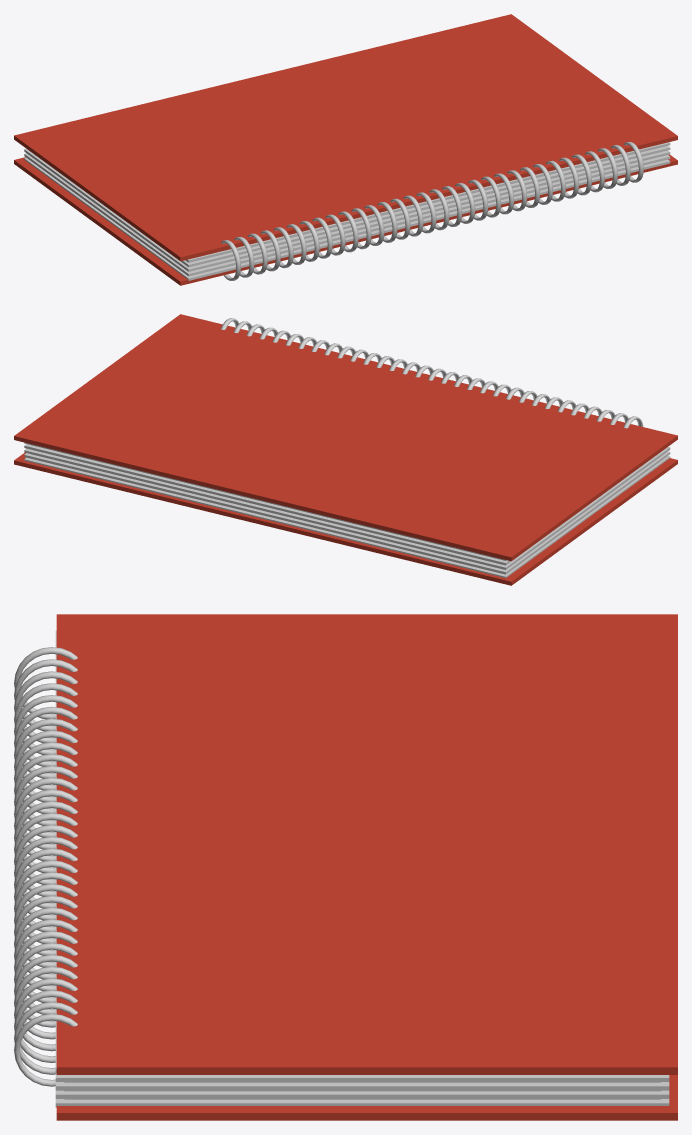
The model's file is Notebook.obj.
The picture shows the model from 3 angles, top to bottom: view 1: azimuth 30°, elevation 25°; view 2: azimuth 150°, elevation 25°; view 3: azimuth 270°, elevation 25°; orthographic projection. The views are drawn at different scales.
Visible parts, largest first — view 1: Box002, Box003, Box001; view 2: Box002, Box003, Box001; view 3: Box002, Box003, Box001, Torus001, Torus002, Torus003, Torus004, Torus005.
Part boxes in pixels (bbox=[...]): Box002: bbox=[14, 14, 677, 261]; Box003: bbox=[24, 142, 670, 280]; Box001: bbox=[14, 154, 677, 285]; Box002: bbox=[14, 314, 677, 561]; Box003: bbox=[24, 442, 670, 577]; Box001: bbox=[14, 452, 677, 585]; Box002: bbox=[56, 614, 677, 1074]; Box003: bbox=[55, 630, 669, 1107]; Box001: bbox=[56, 1075, 677, 1120]; Torus001: bbox=[14, 1013, 77, 1086]; Torus002: bbox=[14, 1002, 77, 1074]; Torus003: bbox=[14, 990, 77, 1062]; Torus004: bbox=[14, 978, 77, 1051]; Torus005: bbox=[14, 966, 77, 1039].
Size of the model in its own units: 1119920 by 82389 by 693727.
